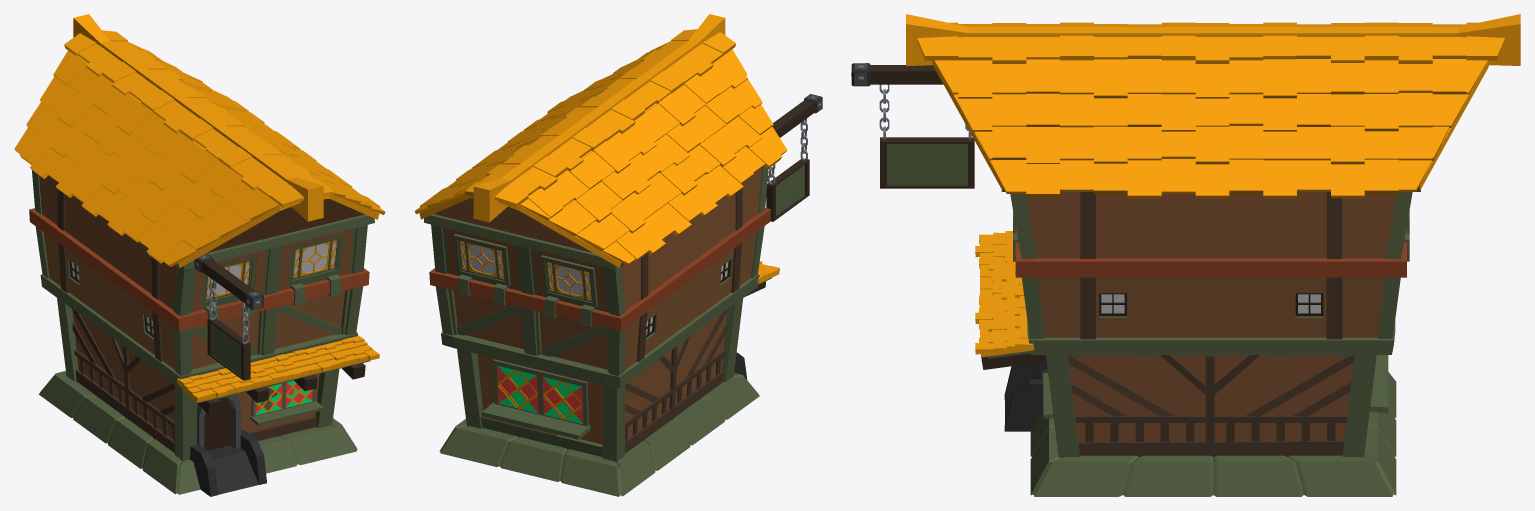
File: SM_Hous_13_A.gltf
3 views of the same model, side by side, from view 1: azimuth 30°, elevation 25°; view 2: azimuth 150°, elevation 25°; view 3: azimuth 270°, elevation 25° (orthographic). The views are drawn at different scales.
Visible parts, largest first — view 1: SM_Hous_13_A; view 2: SM_Hous_13_A; view 3: SM_Hous_13_A.
Part boxes in pixels (bbox=[...]): SM_Hous_13_A: bbox=[14, 14, 385, 496]; SM_Hous_13_A: bbox=[414, 14, 822, 496]; SM_Hous_13_A: bbox=[851, 14, 1520, 496].
Size of the model in its own units: 8.61 by 11.86 by 17.15.
